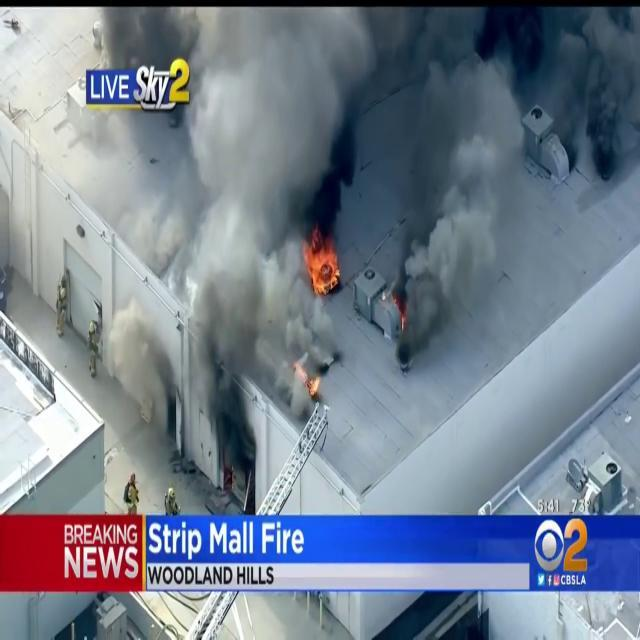Fire: (301, 220, 343, 300)
Smoke: (158, 4, 354, 470), (370, 4, 640, 258)
